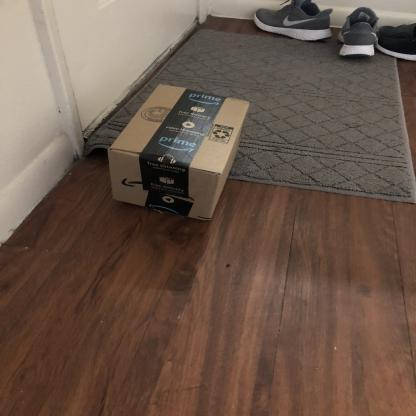package: (105, 83, 253, 224)
